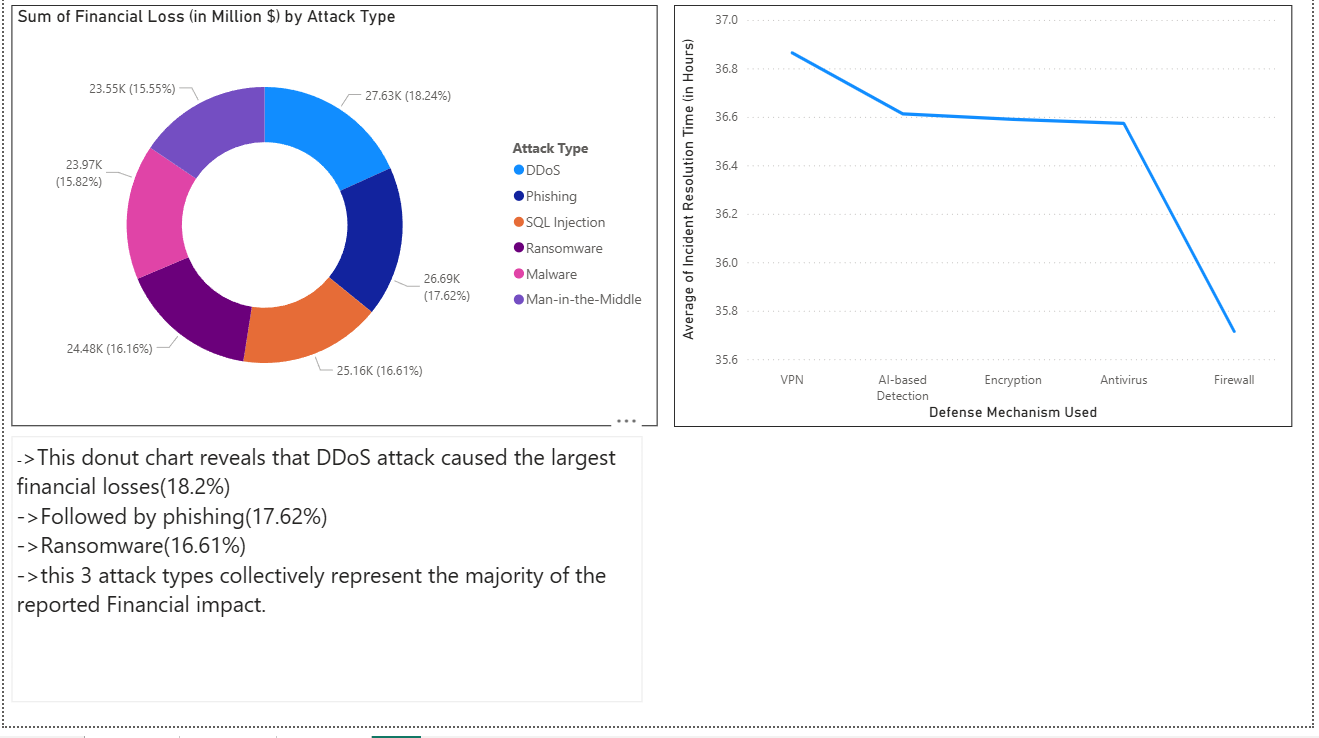

The page's visual inventory and layout, read from the dashboard file:
{"tool":"powerbi","page":{"name":"Page 2","canvas":[1280,720],"ordinal":1},"visuals":[{"type":"donutChart","fields":{"Category":["Global_Cybersecurity_Threats_2015-2024.Attack Type"],"Y":["Sum(Global_Cybersecurity_Threats_2015-2024.Financial Loss (in Million $))"]},"box":[7.3,14.7,632.2,412.1],"z":0},{"type":"lineChart","fields":{"Category":["Global_Cybersecurity_Threats_2015-2024.Defense Mechanism Used"],"Y":["Avg(Global_Cybersecurity_Threats_2015-2024.Incident Resolution Time (in Hours))"]},"box":[655.8,15,604.7,412.7],"z":1000},{"type":"textbox","box":[7.5,436.4,617.2,260.6],"z":2000}]}

Visuals, with their boxes in screenshot pixels (x1, y1, x2, y2), scaled from the page's 1280x720 canvas onto the 1319x738 screenshot:
donutChart - Global_Cybersecurity_Threats_2015-2024.Attack Type x Sum(Global_Cybersecurity_Threats_2015-2024.Financial Loss (in Million $)): BBox(8, 15, 659, 437)
lineChart - Global_Cybersecurity_Threats_2015-2024.Defense Mechanism Used x Avg(Global_Cybersecurity_Threats_2015-2024.Incident Resolution Time (in Hours)): BBox(676, 15, 1299, 438)
textbox: BBox(8, 447, 644, 714)
